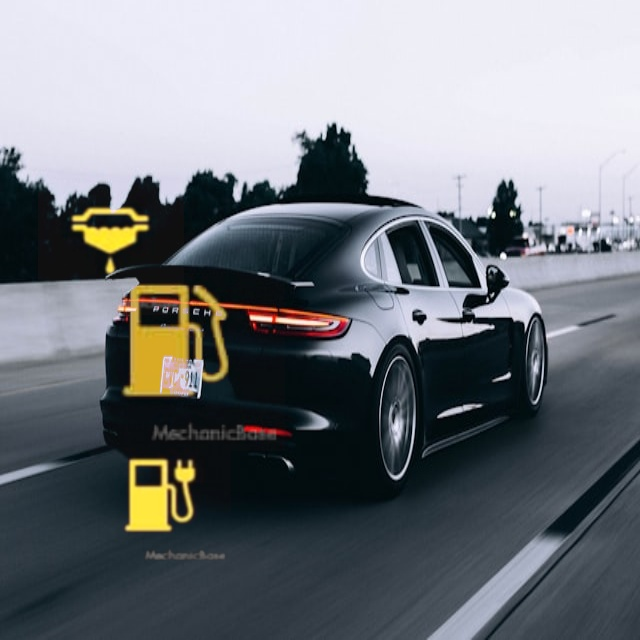symbol: (67, 233, 285, 451), (38, 169, 184, 315), (90, 426, 231, 567)
